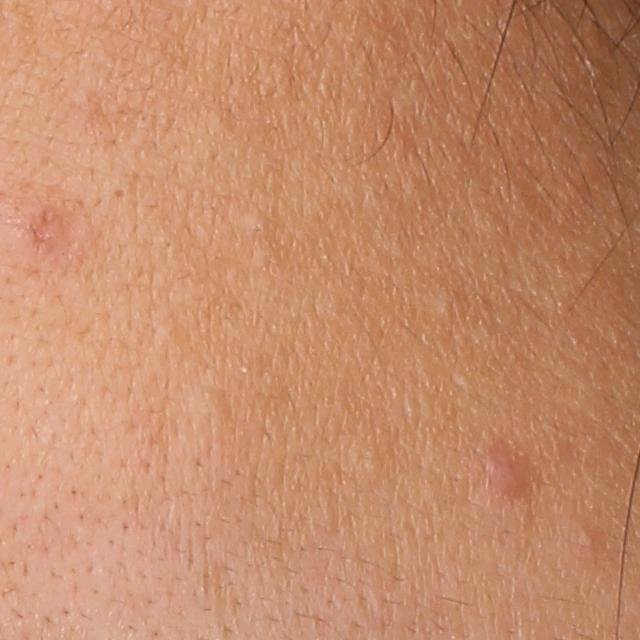comedo: (193, 386, 229, 418), (432, 289, 455, 317), (578, 528, 599, 552), (158, 324, 180, 345), (112, 185, 129, 200)
papule: (484, 447, 537, 506)
